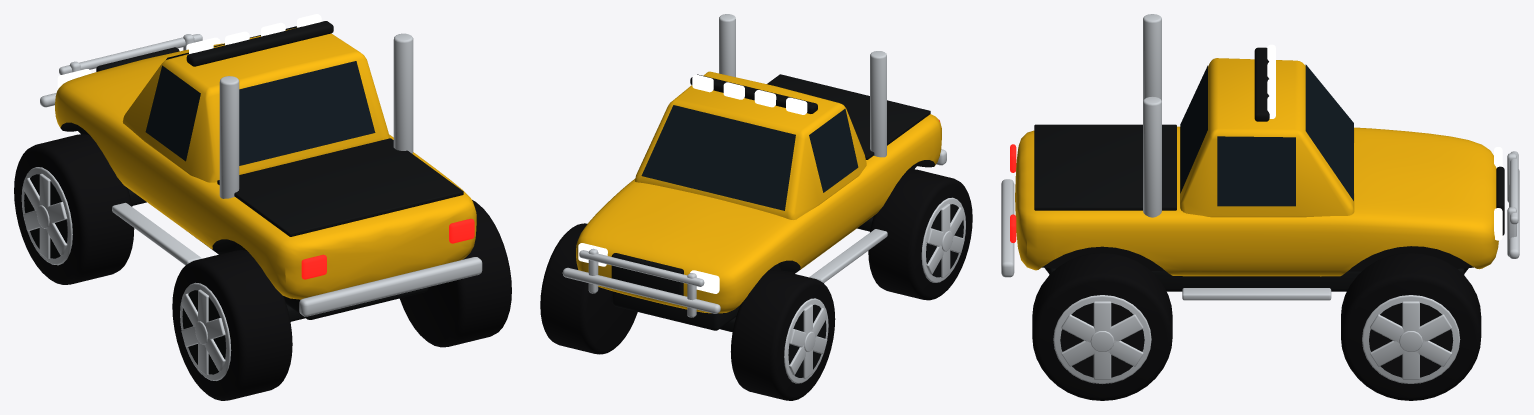
Rendered from truck.glb.
3 renders of one model, left to right at view 1: azimuth 30°, elevation 25°; view 2: azimuth 150°, elevation 25°; view 3: azimuth 270°, elevation 25°, orthographic. The views are drawn at different scales.
Parts seen in each view (by area): view 1: Paint parts, Charcoal parts, Wheel_RL, Wheel_FL, Glass parts, Silver parts, Wheel_RR, Headlamp parts, Tail lamp parts; view 2: Paint parts, Glass parts, Wheel_FL, Wheel_RL, Silver parts, Charcoal parts, Wheel_FR, Headlamp parts; view 3: Paint parts, Wheel_FR, Wheel_RR, Charcoal parts, Glass parts, Silver parts, Headlamp parts.
Part boxes in pixels (x1,y1,x2,y2): Paint parts: [55, 27, 476, 299]; Charcoal parts: [96, 21, 463, 321]; Wheel_RL: [172, 250, 292, 400]; Wheel_FL: [14, 134, 134, 284]; Glass parts: [145, 26, 375, 165]; Silver parts: [40, 33, 482, 316]; Wheel_RR: [399, 200, 511, 347]; Headlamp parts: [57, 14, 321, 89]; Tail lamp parts: [301, 218, 474, 279]; Paint parts: [576, 71, 941, 313]; Glass parts: [641, 105, 858, 210]; Wheel_FL: [730, 270, 835, 400]; Wheel_RL: [868, 169, 972, 300]; Silver parts: [562, 14, 946, 317]; Charcoal parts: [611, 74, 930, 332]; Wheel_FR: [540, 223, 637, 354]; Headlamp parts: [578, 74, 807, 293]; Paint parts: [1015, 58, 1498, 276]; Wheel_FR: [1341, 252, 1481, 400]; Wheel_RR: [1032, 252, 1172, 400]; Charcoal parts: [1034, 47, 1504, 291]; Glass parts: [1180, 64, 1353, 206]; Silver parts: [1001, 14, 1519, 300]; Headlamp parts: [1267, 44, 1502, 240].
Bounding box in the file's own units: 2.99 × 2.9 × 4.87.
